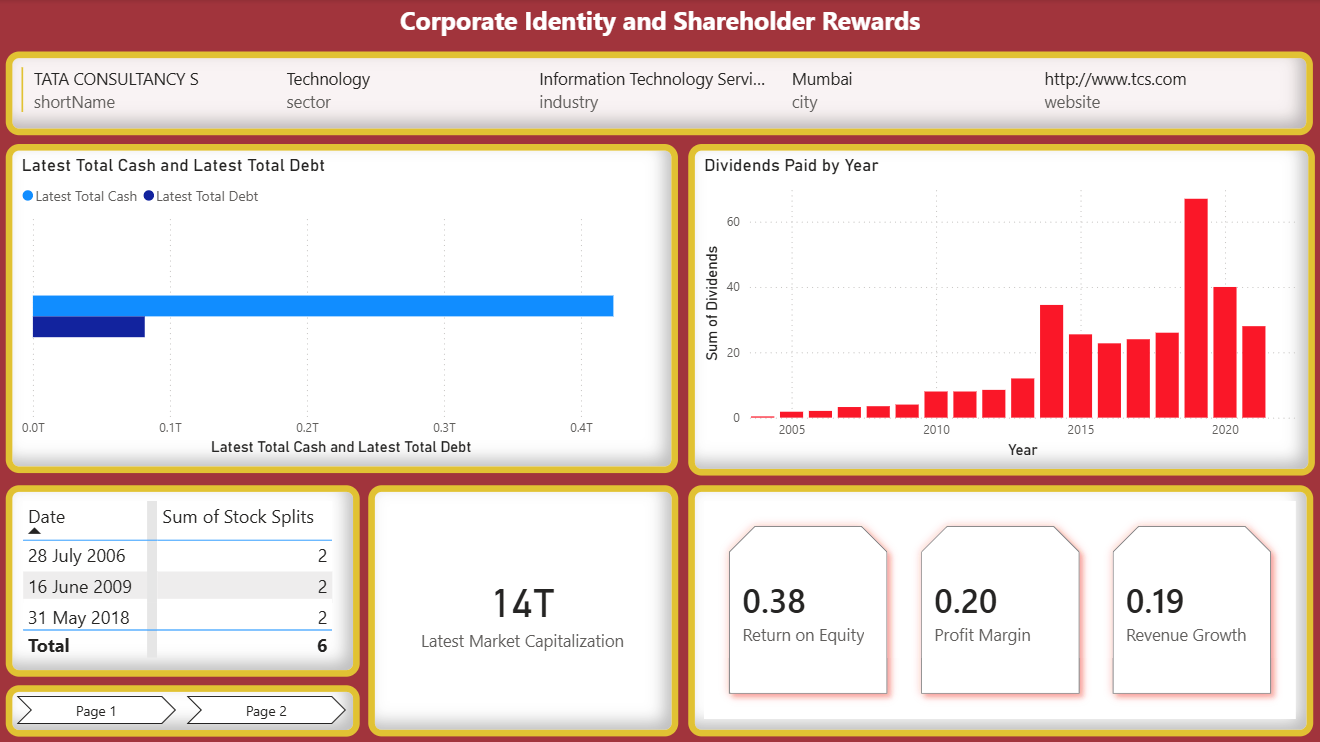

The dashboard page shown, as its layout file describes it:
{"tool":"powerbi","page":{"name":"Page 3","canvas":[1280,720],"ordinal":2},"visuals":[{"type":"textbox","box":[0,0,1280,42.2],"z":0},{"type":"multiRowCard","fields":{"Values":["TCS_stock_info.shortName","TCS_stock_info.sector","TCS_stock_info.industry","TCS_stock_info.city","TCS_stock_info.website"]},"box":[8.4,50.7,1261.9,80.8],"z":1000},{"type":"columnChart","title":"Dividends Paid by Year","fields":{"Category":["Calender.Date.Variation.Date Hierarchy.Year"],"Y":["TCS_stock_history.Dividends"]},"box":[667.2,139.9,604.4,319.7],"z":2000},{"type":"tableEx","fields":{"Values":["TCS_stock_history.Date","TCS_stock_history.Stock Splits"]},"box":[8.4,469.3,341.4,184.6],"z":3000},{"type":"clusteredBarChart","fields":{"Y":["TCS_stock_info.Latest Total Cash","TCS_stock_info.Latest Total Debt"]},"box":[8.4,139.9,649.1,317.3],"z":4000},{"type":"card","fields":{"Values":["TCS_stock_info.Latest Market Capitalization"]},"box":[358.3,469.3,299.2,242.5],"z":6000},{"type":"cardVisual","fields":{"Data":["TCS_stock_info.returnOnEquity","TCS_stock_info.profitMargins","TCS_stock_info.revenueGrowth"]},"box":[667.2,469.3,603.2,242.5],"z":7000},{"type":"pageNavigator","box":[8.4,662.3,341.4,49.5],"z":8000}]}

Visuals, with their boxes in screenshot pixels (x1, y1, x2, y2), scaled from the page's 1280x720 canvas onto the 1320x742 screenshot:
textbox: (0,0,1319,43)
multiRowCard - TCS_stock_info.shortName x TCS_stock_info.sector: (9,52,1310,136)
"Dividends Paid by Year" columnChart: (688,144,1311,474)
tableEx - TCS_stock_history.Date x TCS_stock_history.Stock Splits: (9,484,361,674)
clusteredBarChart - TCS_stock_info.Latest Total Cash x TCS_stock_info.Latest Total Debt: (9,144,678,471)
card - TCS_stock_info.Latest Market Capitalization: (369,484,678,734)
cardVisual - TCS_stock_info.returnOnEquity x TCS_stock_info.profitMargins: (688,484,1310,734)
pageNavigator: (9,683,361,734)
